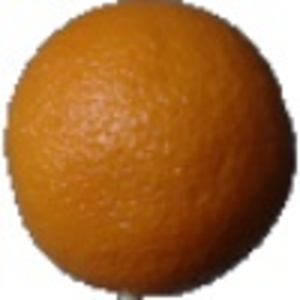laranja: (4, 2, 292, 291)
